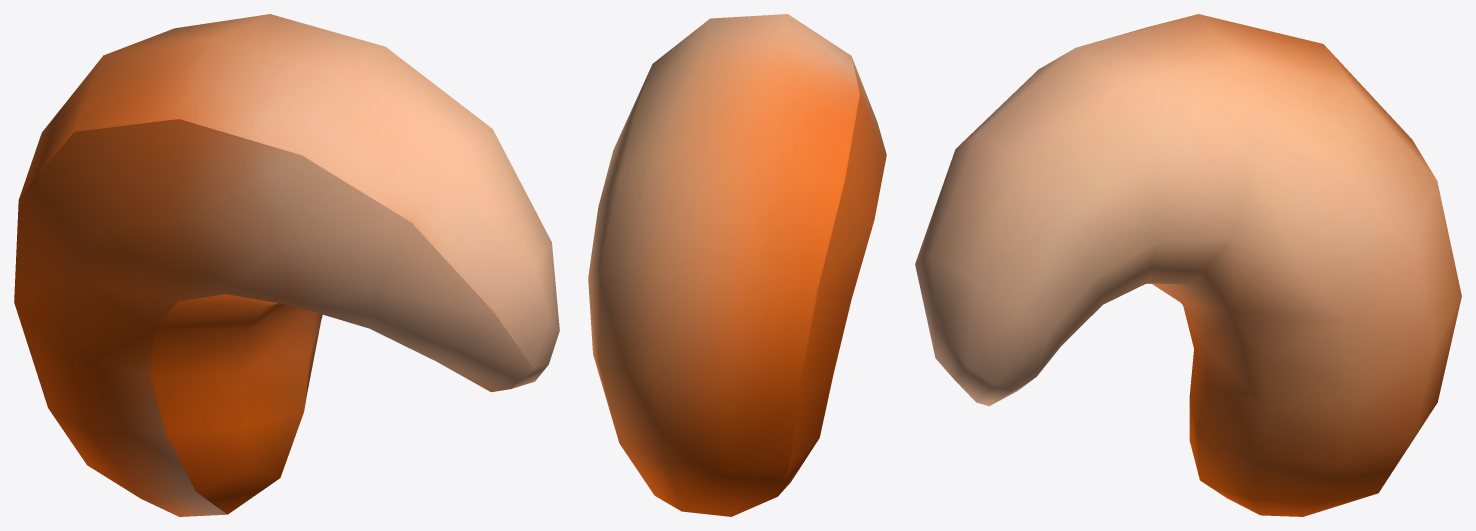
The model's file is TailDog.obj.
3 renders of one model, left to right at view 1: azimuth 30°, elevation 25°; view 2: azimuth 150°, elevation 25°; view 3: azimuth 270°, elevation 25°, orthographic. The views are drawn at different scales.
Parts seen in each view (by area): view 1: Dog_Tail; view 2: Dog_Tail; view 3: Dog_Tail.
Part boxes in pixels (bbox=[...]): Dog_Tail: bbox=[14, 14, 559, 516]; Dog_Tail: bbox=[588, 14, 886, 516]; Dog_Tail: bbox=[915, 14, 1461, 516].
Bounding box in the file's own units: 0.1527 × 0.2111 × 0.2152.
1 material, 1 textured.
